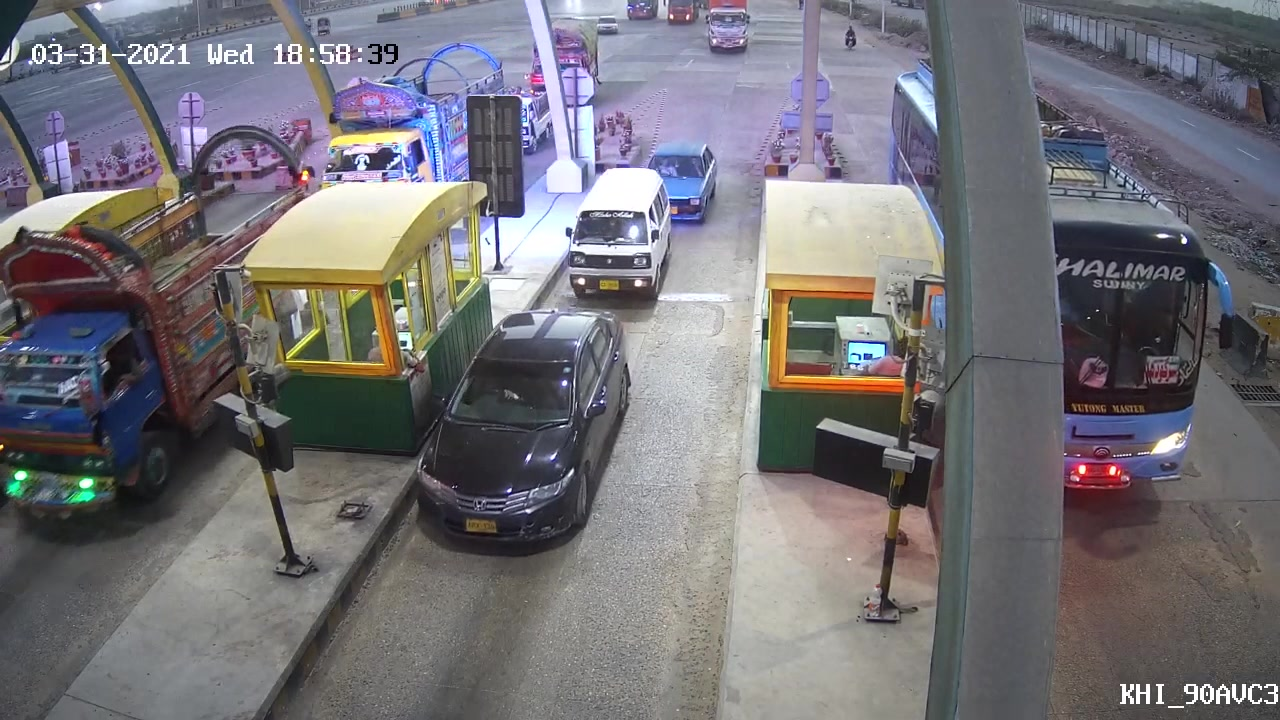F1: (407, 309, 641, 549)
F2: (560, 165, 675, 300)
